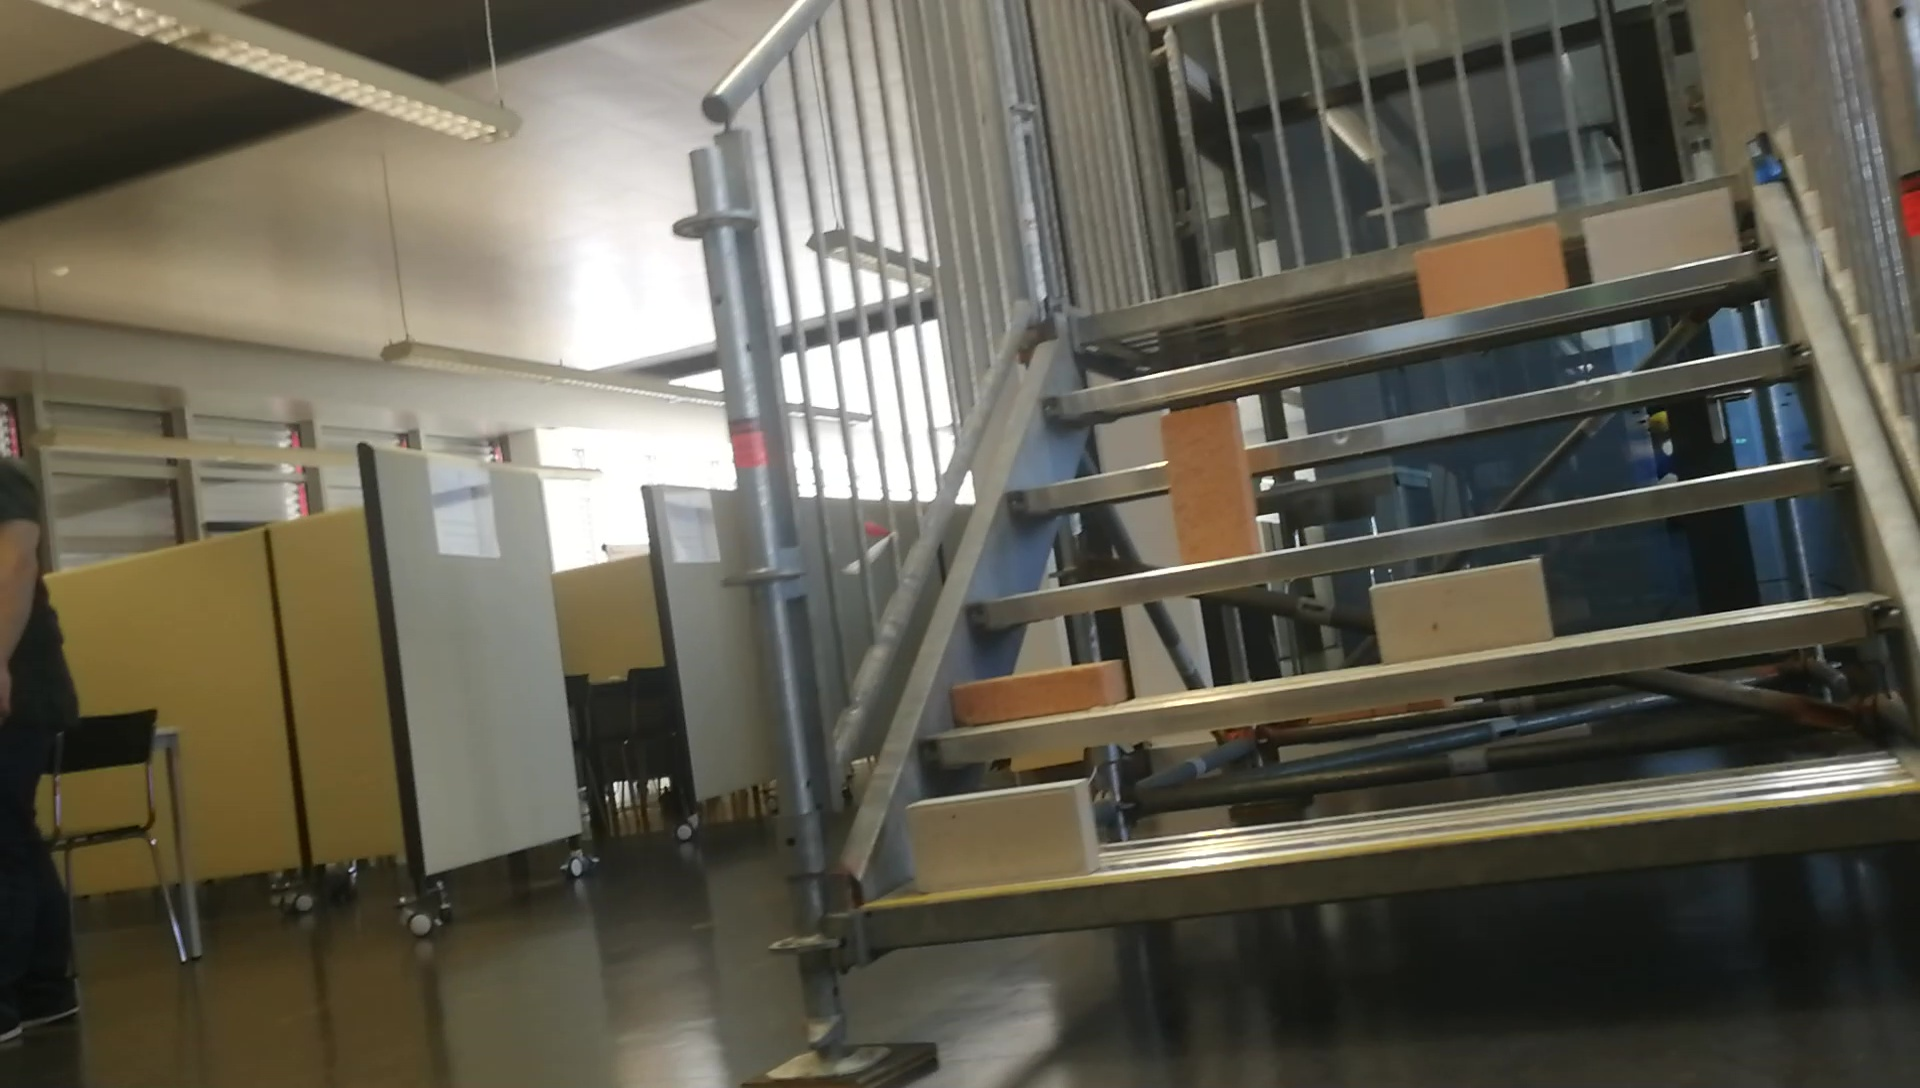brick: (905, 781, 1098, 901), (1371, 563, 1548, 666), (1160, 401, 1255, 560), (1586, 189, 1738, 285), (1418, 226, 1563, 317), (948, 659, 1122, 719), (1424, 181, 1551, 229)
edge: (860, 786, 1917, 951), (910, 591, 1895, 768), (967, 458, 1847, 630), (1010, 349, 1809, 513), (1044, 255, 1778, 415)
stairs: (669, 3, 1917, 1081)
steps: (835, 167, 1920, 971)
